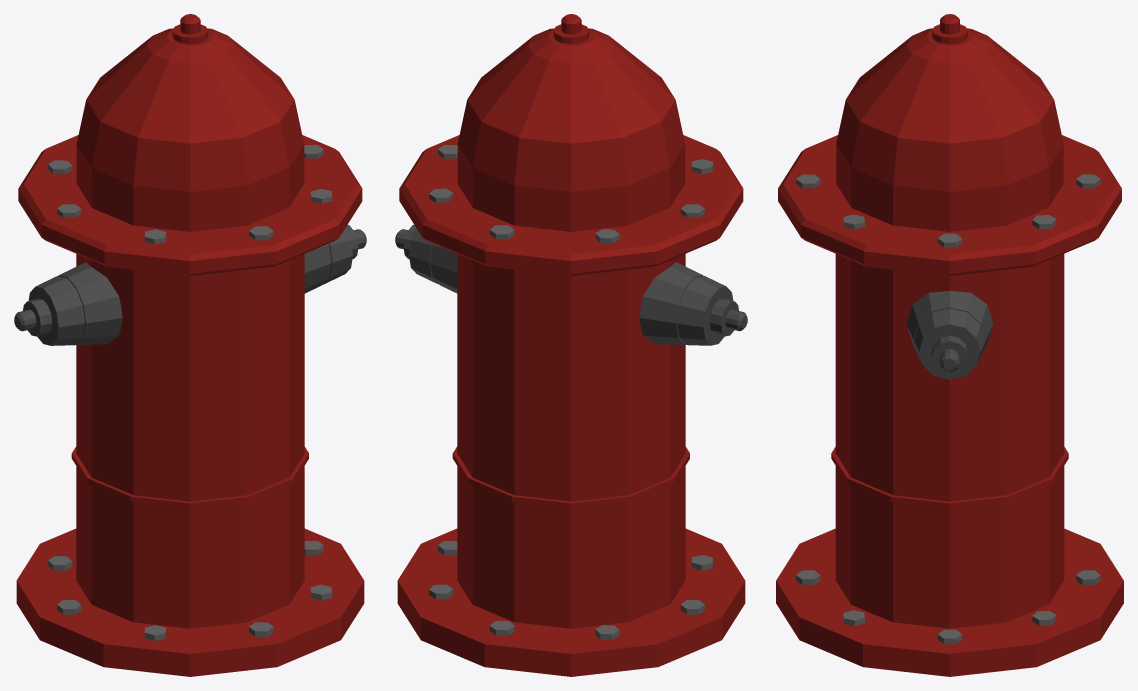
File: fireHydrant.glb
3 views of the same model, side by side, from view 1: azimuth 30°, elevation 25°; view 2: azimuth 150°, elevation 25°; view 3: azimuth 270°, elevation 25° (orthographic).
Visible parts, largest first — view 1: Cercle; view 2: Cercle; view 3: Cercle.
Part boxes in pixels (<box>): Cercle: <box>14,14,366,676</box>; Cercle: <box>395,14,747,676</box>; Cercle: <box>776,14,1123,676</box>.
Bounding box in the file's own units: 0.4209 × 0.7098 × 0.3662.
